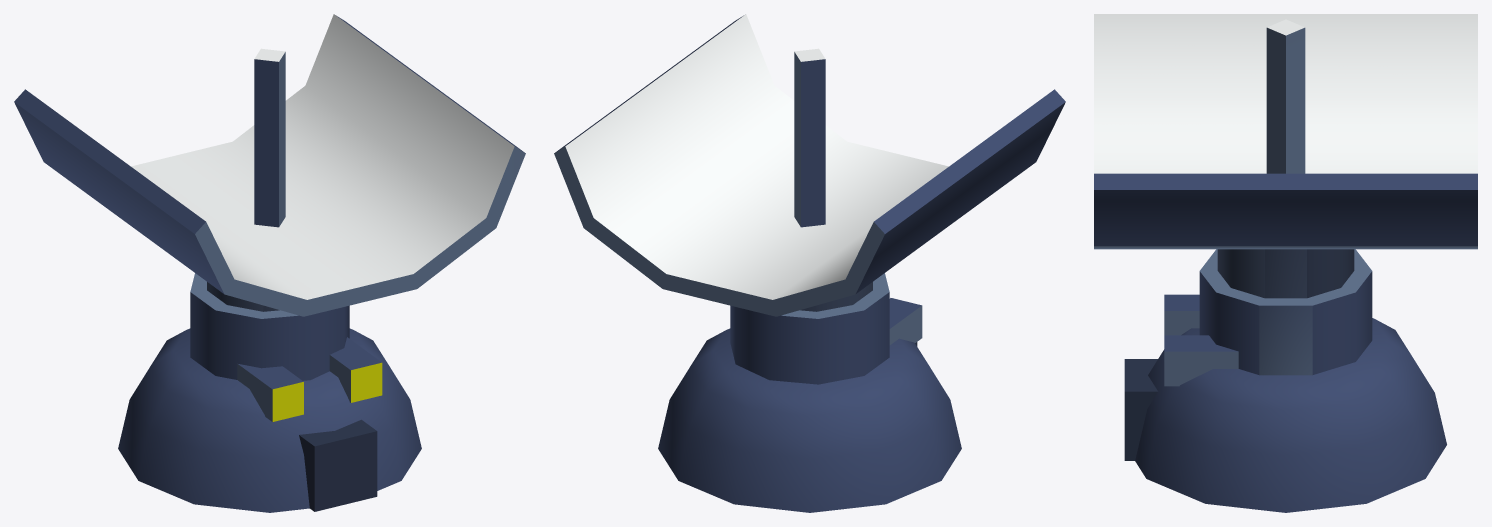
The model's file is Lab.SilverClaw.Snow.glb.
The picture shows the model from 3 angles, left to right: view 1: azimuth 30°, elevation 25°; view 2: azimuth 150°, elevation 25°; view 3: azimuth 270°, elevation 25°; orthographic projection. The views are drawn at different scales.
Visible parts, largest first — view 1: Lab.SilverClaw.Snow; view 2: Lab.SilverClaw.Snow; view 3: Lab.SilverClaw.Snow.
Part boxes in pixels (box(x1,y1,x2,y2)): Lab.SilverClaw.Snow: box(14, 14, 525, 512); Lab.SilverClaw.Snow: box(554, 14, 1065, 512); Lab.SilverClaw.Snow: box(1094, 14, 1477, 512).
Bounding box in the file's own units: 2.11 × 2.41 × 2.
2 materials, 1 textured.
